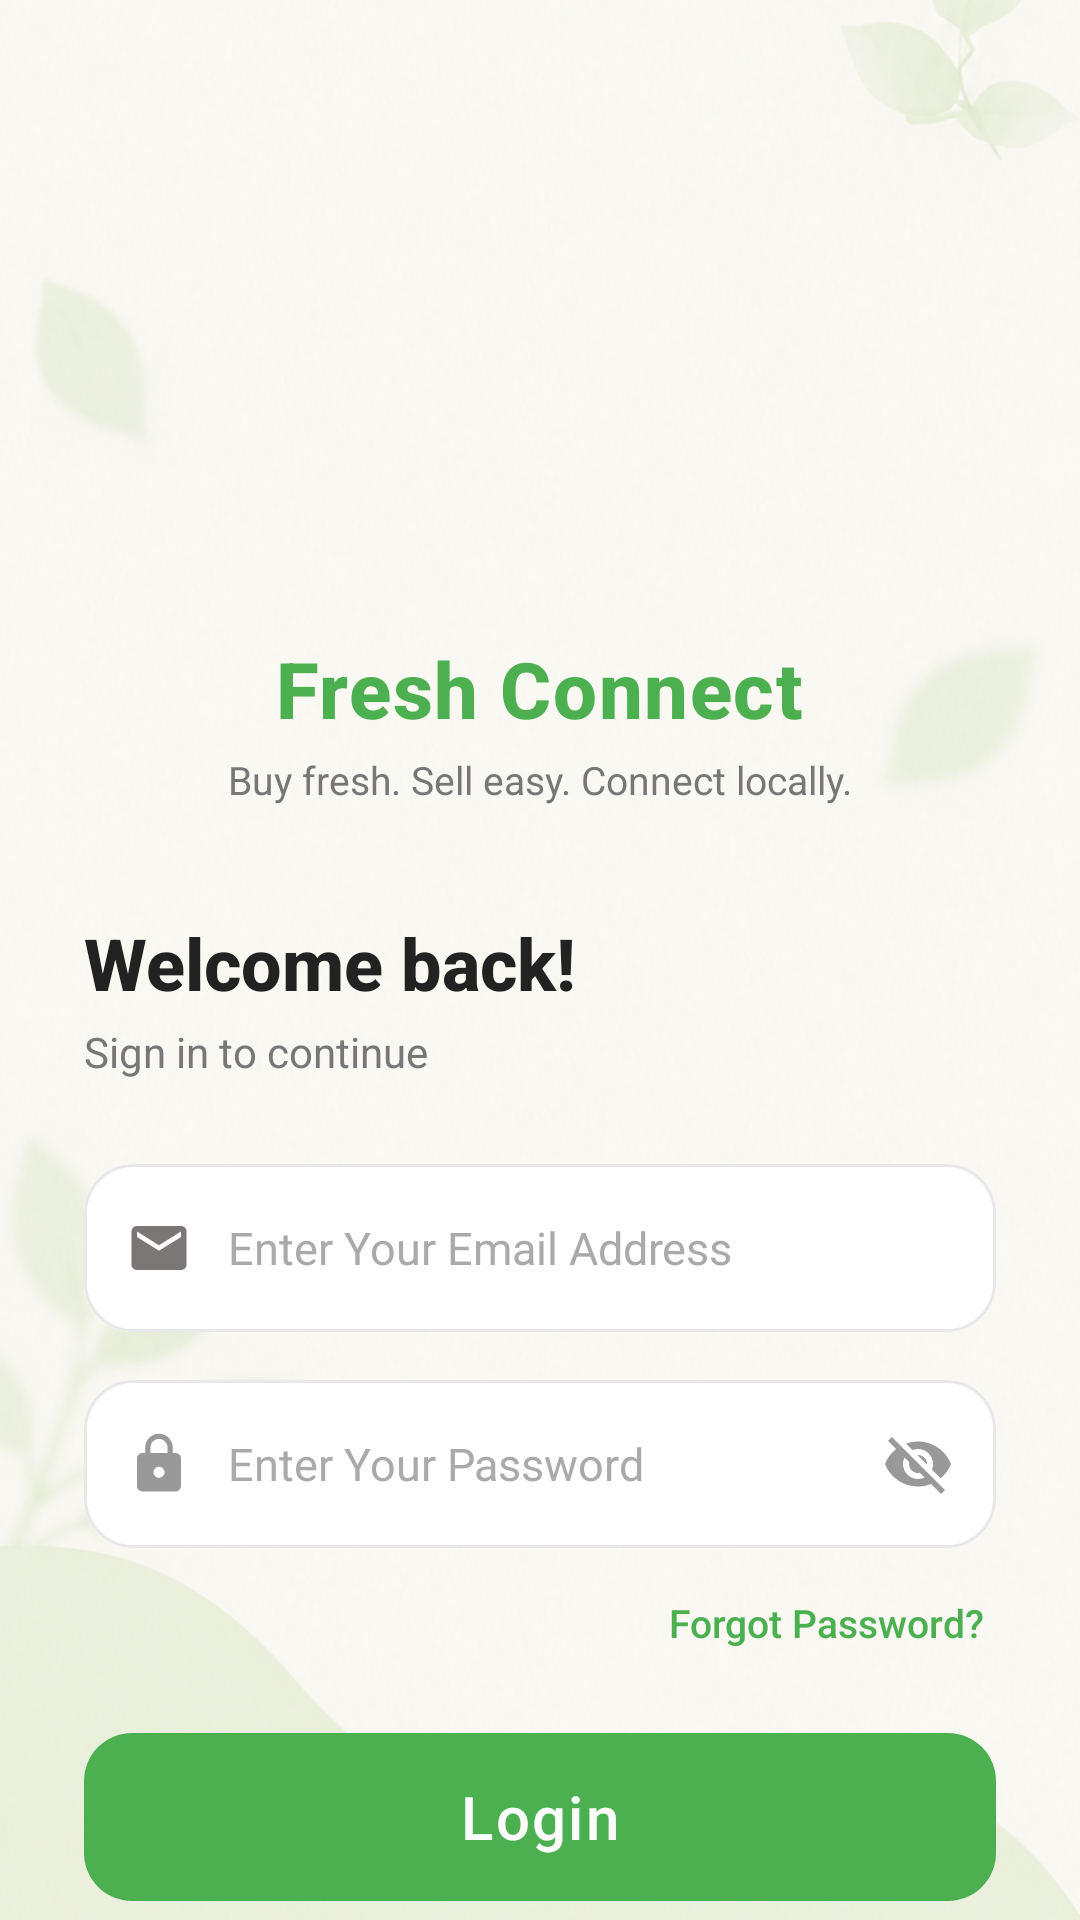

Icons on this 1080×1920 Android screen, each with its box as (x1, y1, x2, y2):
Lock icon: (137, 1433, 181, 1492)
Toggle password visibility: (885, 1437, 951, 1494)
